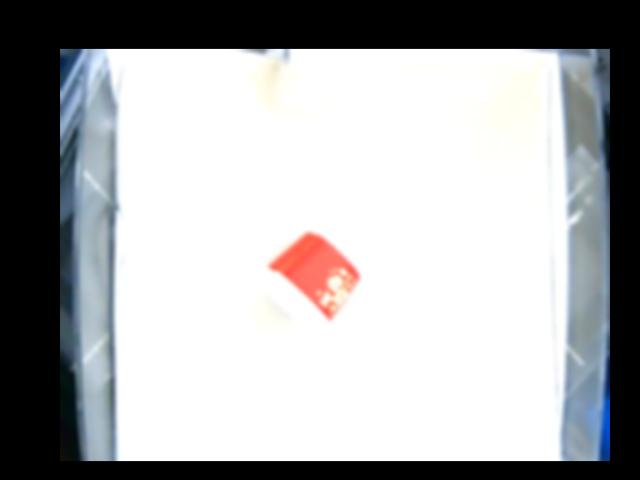Cup: (254, 222, 366, 333)
